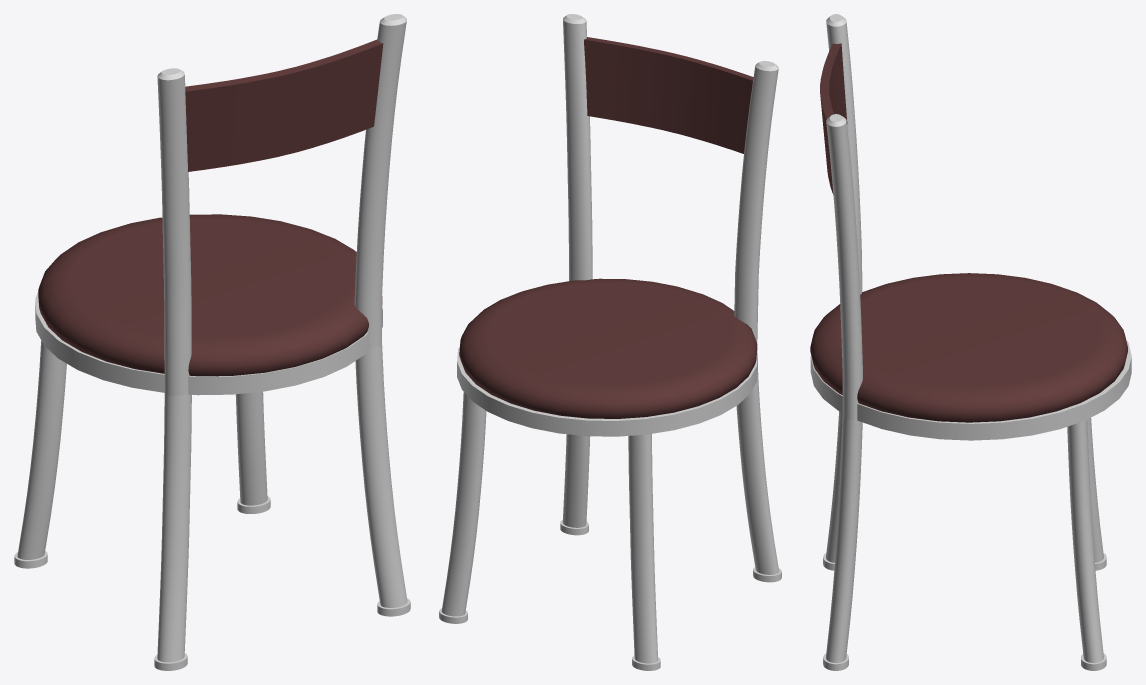
The model's file is Chaise4_5.fbx.
3 renders of one model, left to right at view 1: azimuth 30°, elevation 25°; view 2: azimuth 150°, elevation 25°; view 3: azimuth 270°, elevation 25°, orthographic. The views are drawn at different scales.
Parts seen in each view (by area): view 1: pCylinder1681, pCube2685, pCylinder1674, pCylinder1675, pCylinder1678, pCylinder1677, pCylinder1680, pCylinder1673, pCylinder1676; view 2: pCylinder1681, pCube2685, pCylinder1674, pCylinder1675, pCylinder1680, pCylinder1673, pCylinder1676, pCylinder1678, pCylinder1677; view 3: pCylinder1681, pCylinder1675, pCylinder1680, pCylinder1677, pCylinder1676, pCylinder1674, pCube2685, pCylinder1678, pCylinder1673.
Part boxes in pixels (bbox=[...]): pCylinder1681: bbox=[38, 214, 382, 376]; pCube2685: bbox=[185, 39, 383, 171]; pCylinder1674: bbox=[157, 68, 191, 395]; pCylinder1675: bbox=[354, 14, 406, 349]; pCylinder1678: bbox=[154, 393, 191, 670]; pCylinder1677: bbox=[355, 344, 410, 616]; pCylinder1680: bbox=[35, 291, 382, 395]; pCylinder1673: bbox=[14, 340, 66, 568]; pCylinder1676: bbox=[235, 391, 270, 513]; pCylinder1681: bbox=[459, 278, 757, 418]; pCube2685: bbox=[584, 37, 753, 153]; pCylinder1674: bbox=[734, 61, 778, 343]; pCylinder1675: bbox=[563, 14, 592, 281]; pCylinder1680: bbox=[457, 346, 757, 436]; pCylinder1673: bbox=[628, 434, 660, 670]; pCylinder1676: bbox=[439, 392, 486, 623]; pCylinder1678: bbox=[736, 370, 781, 582]; pCylinder1677: bbox=[560, 434, 590, 535]; pCylinder1681: bbox=[810, 273, 1127, 422]; pCylinder1675: bbox=[826, 114, 862, 419]; pCylinder1680: bbox=[810, 340, 1131, 440]; pCylinder1677: bbox=[823, 416, 862, 670]; pCylinder1676: bbox=[1067, 420, 1106, 670]; pCylinder1674: bbox=[826, 14, 862, 294]; pCube2685: bbox=[820, 43, 847, 194]; pCylinder1678: bbox=[823, 411, 842, 570]; pCylinder1673: bbox=[1087, 417, 1106, 570].
Size of the model in its own units: 44.91 by 84.31 by 44.99.
